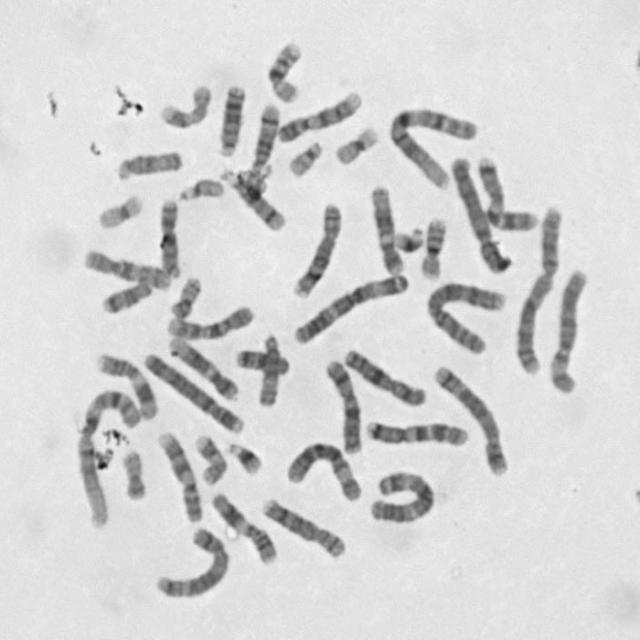A1: (73, 389, 144, 529), (387, 105, 480, 190)
A2: (513, 206, 565, 380), (427, 277, 510, 356)
A3: (292, 273, 410, 347), (366, 470, 439, 526)
B4: (141, 349, 246, 436), (449, 156, 514, 276)
B5: (435, 363, 510, 476), (149, 527, 231, 601)
C10: (83, 249, 171, 293), (167, 304, 254, 342)
C11: (209, 492, 279, 564), (93, 353, 158, 422)
C12: (166, 334, 242, 402), (368, 185, 405, 279)
C6: (546, 266, 591, 399), (286, 440, 364, 504)
C7: (474, 151, 540, 234), (365, 420, 471, 452)
C8: (257, 496, 346, 560), (291, 202, 343, 302)
C9: (276, 89, 363, 144), (155, 430, 204, 524)
D13: (155, 197, 183, 280), (217, 85, 245, 159)
D14: (220, 167, 287, 234), (248, 102, 282, 174)
D15: (113, 152, 184, 184), (255, 333, 283, 408)
E16: (264, 38, 308, 106), (419, 213, 448, 283)
E17: (160, 81, 213, 131), (193, 431, 229, 487)
E18: (101, 280, 152, 315), (235, 346, 293, 376)
F19: (333, 126, 378, 171), (98, 193, 144, 231)
F20: (169, 275, 202, 320), (120, 450, 149, 501)
G21: (228, 442, 265, 476), (391, 225, 426, 255)
G22: (286, 139, 323, 179), (179, 178, 224, 202)
X: (344, 347, 428, 407), (320, 355, 364, 457)
